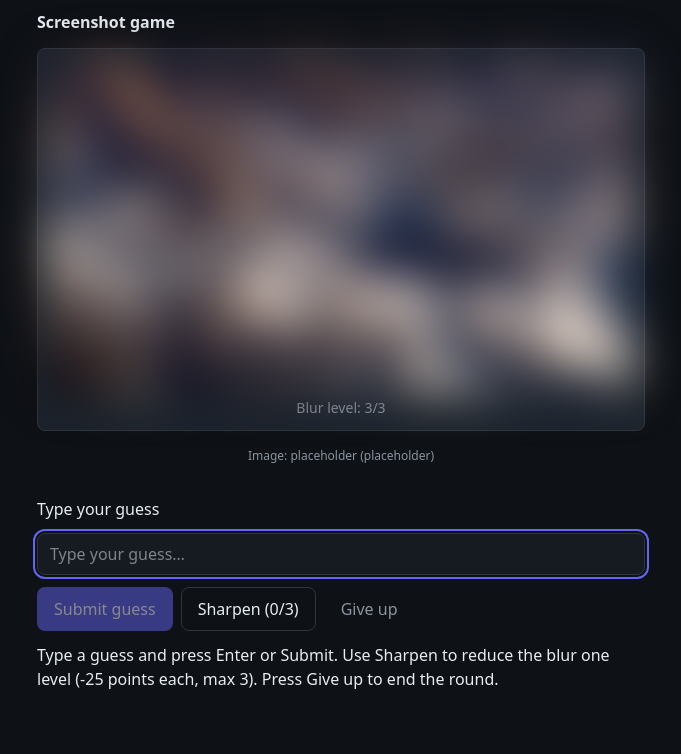
Scenario: ScreenshotGame — wrong guess › records a wrong guess and announces it without ending the round
Type "Valley" into the text box labelled "Type your guess" at (341, 554), box top-left (37, 533), bottom-right (645, 575)
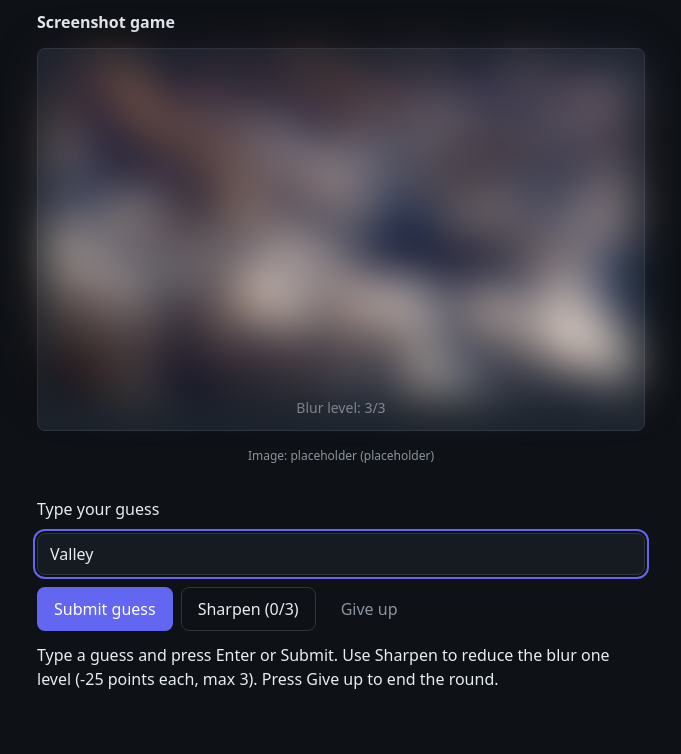
Click the button "Submit guess" at (105, 609), box top-left (37, 587), bottom-right (173, 631)
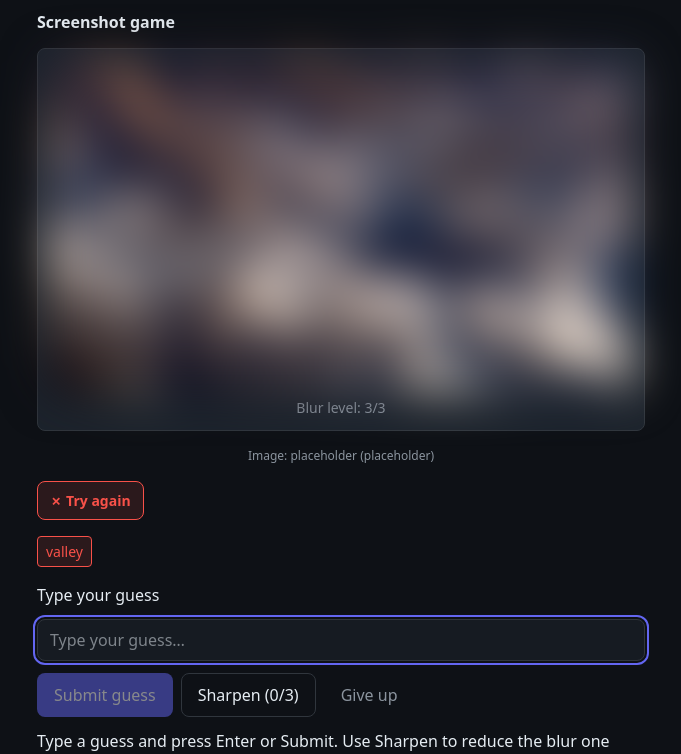
Result: the element named "Previous wrong guesses" reads "valley" at top-left (46, 542), bottom-right (83, 561)
Result: the text box labelled "Type your guess" is empty at top-left (37, 619), bottom-right (645, 661)
